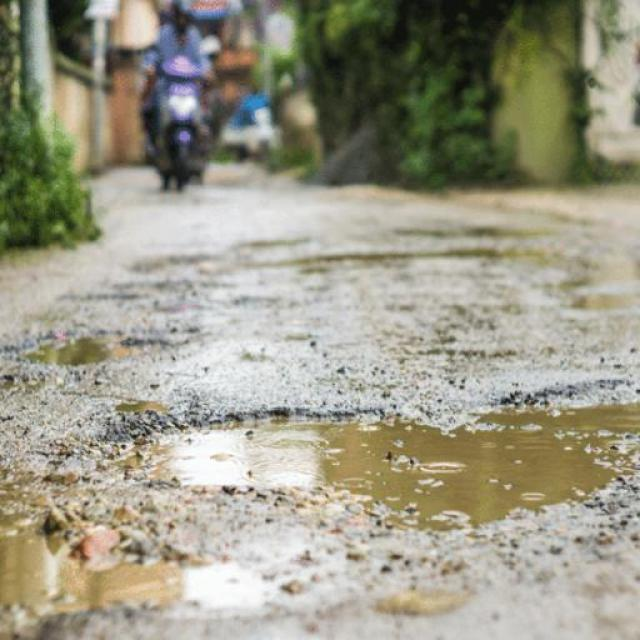puddle: (181, 393, 632, 519)
